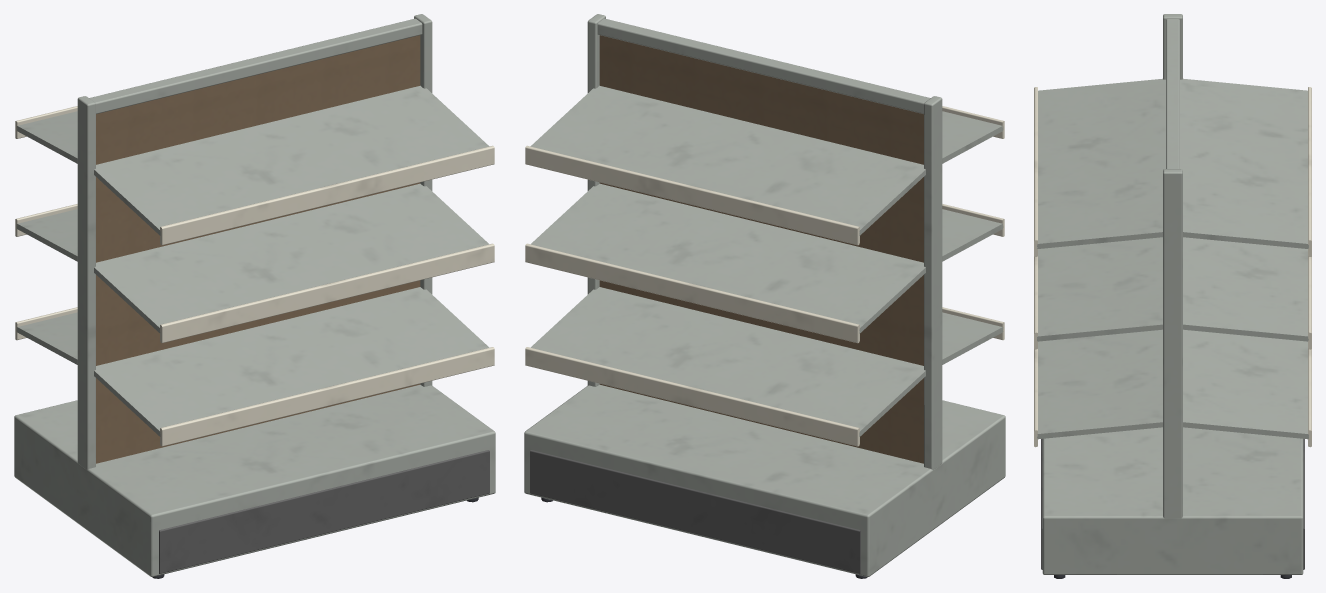
File: Shop_Gondola.fbx
The picture shows the model from 3 angles, left to right: view 1: azimuth 30°, elevation 25°; view 2: azimuth 150°, elevation 25°; view 3: azimuth 270°, elevation 25°; orthographic projection. The views are drawn at different scales.
Parts seen in each view (by area): view 1: Shop_Gondola; view 2: Shop_Gondola; view 3: Shop_Gondola.
Part boxes in pixels (x1,y1,x2,y2): Shop_Gondola: [14, 14, 495, 578]; Shop_Gondola: [524, 14, 1005, 578]; Shop_Gondola: [1034, 14, 1311, 578].
Bounding box in the file's own units: 1.33 × 1.6 × 0.98.
